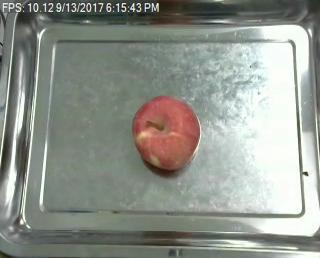apple: (132, 96, 201, 170)
